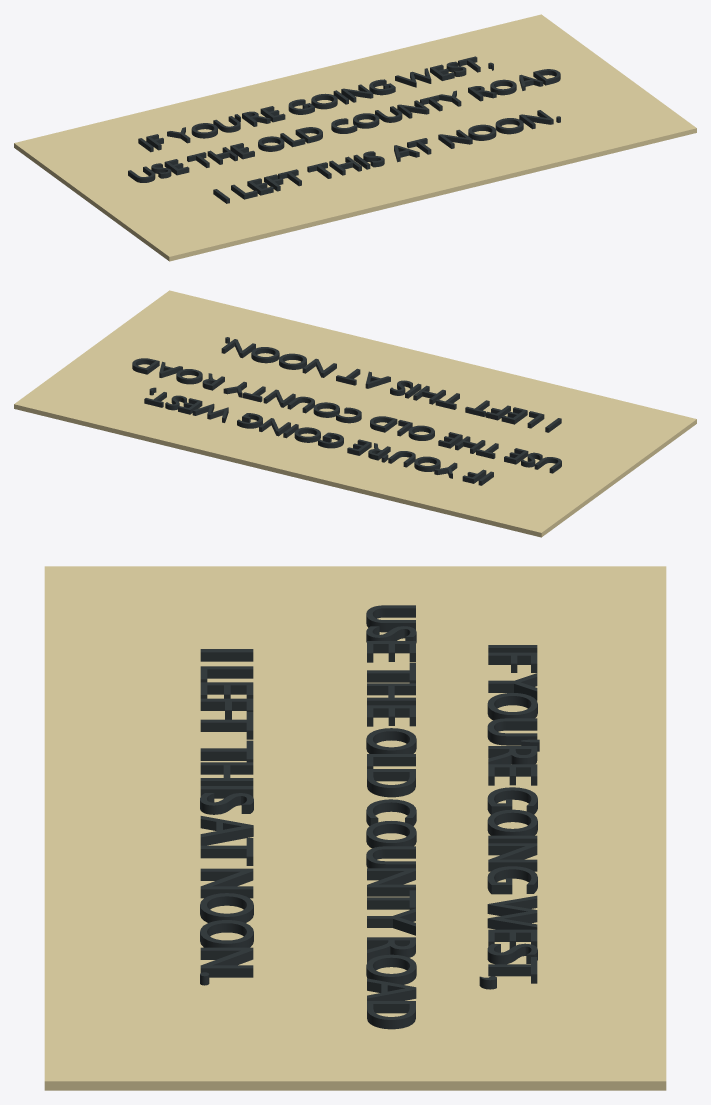
File: noon_note.glb
The picture shows the model from 3 angles, top to bottom: view 1: azimuth 30°, elevation 25°; view 2: azimuth 150°, elevation 25°; view 3: azimuth 270°, elevation 25°; orthographic projection. The views are drawn at different scales.
Parts seen in each view (by area): view 1: Folded paper, USE THE OLD COUNTY ROAD, IF YOU'RE GOING WEST,, I LEFT THIS AT NOON.; view 2: Folded paper, USE THE OLD COUNTY ROAD, IF YOU'RE GOING WEST,, I LEFT THIS AT NOON.; view 3: Folded paper, USE THE OLD COUNTY ROAD, IF YOU'RE GOING WEST,, I LEFT THIS AT NOON..
Part boxes in pixels (x1,y1,x2,y2): Folded paper: (14, 14, 696, 261); USE THE OLD COUNTY ROAD: (128, 69, 560, 182); IF YOU'RE GOING WEST,: (138, 56, 493, 152); I LEFT THIS AT NOON.: (213, 110, 560, 203); Folded paper: (14, 290, 696, 537); USE THE OLD COUNTY ROAD: (132, 358, 561, 473); IF YOU'RE GOING WEST,: (144, 387, 493, 485); I LEFT THIS AT NOON.: (221, 337, 561, 432); Folded paper: (44, 566, 666, 1090); USE THE OLD COUNTY ROAD: (366, 605, 416, 1029); IF YOU'RE GOING WEST,: (479, 645, 539, 989); I LEFT THIS AT NOON.: (200, 649, 253, 985).
Size of the model in its own units: 0.237 by 0.0044 by 0.121.
